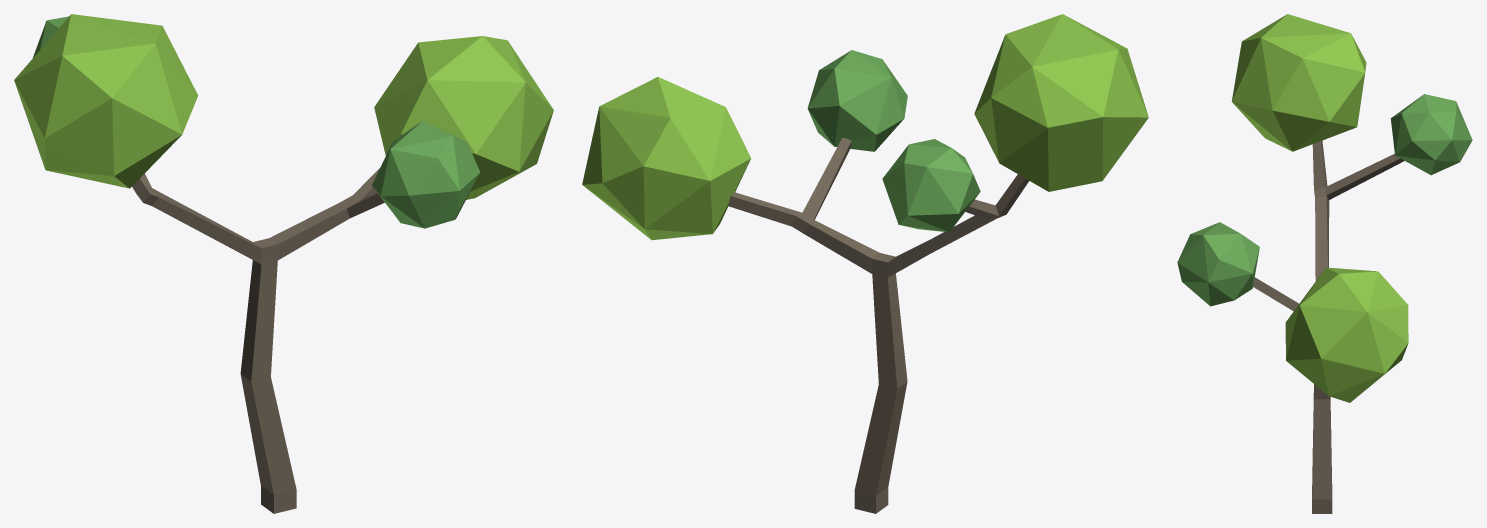
File: tree1.fbx
3 renders of one model, left to right at view 1: azimuth 30°, elevation 25°; view 2: azimuth 150°, elevation 25°; view 3: azimuth 270°, elevation 25°, orthographic. The views are drawn at different scales.
Visible parts, largest first — view 1: Sphere_2, Sphere_1, Cube, Sphere; view 2: Sphere_2, Sphere_1, Cube, Sphere, Sphere_3; view 3: Sphere_2, Sphere_1, Cube, Sphere, Sphere_3.
Part boxes in pixels (bbox=[...]): Sphere_2: bbox=[14, 14, 198, 188]; Sphere_1: bbox=[374, 36, 553, 199]; Cube: bbox=[132, 168, 384, 513]; Sphere: bbox=[372, 120, 480, 228]; Sphere_2: bbox=[974, 14, 1148, 191]; Sphere_1: bbox=[582, 77, 751, 240]; Cube: bbox=[727, 138, 1028, 513]; Sphere: bbox=[807, 50, 907, 151]; Sphere_3: bbox=[882, 139, 980, 232]; Sphere_2: bbox=[1231, 14, 1366, 151]; Sphere_1: bbox=[1285, 267, 1408, 402]; Cube: bbox=[1253, 140, 1404, 513]; Sphere: bbox=[1177, 222, 1259, 306]; Sphere_3: bbox=[1390, 94, 1472, 175].
Size of the model in its own units: 2374 by 2240 by 1460.
